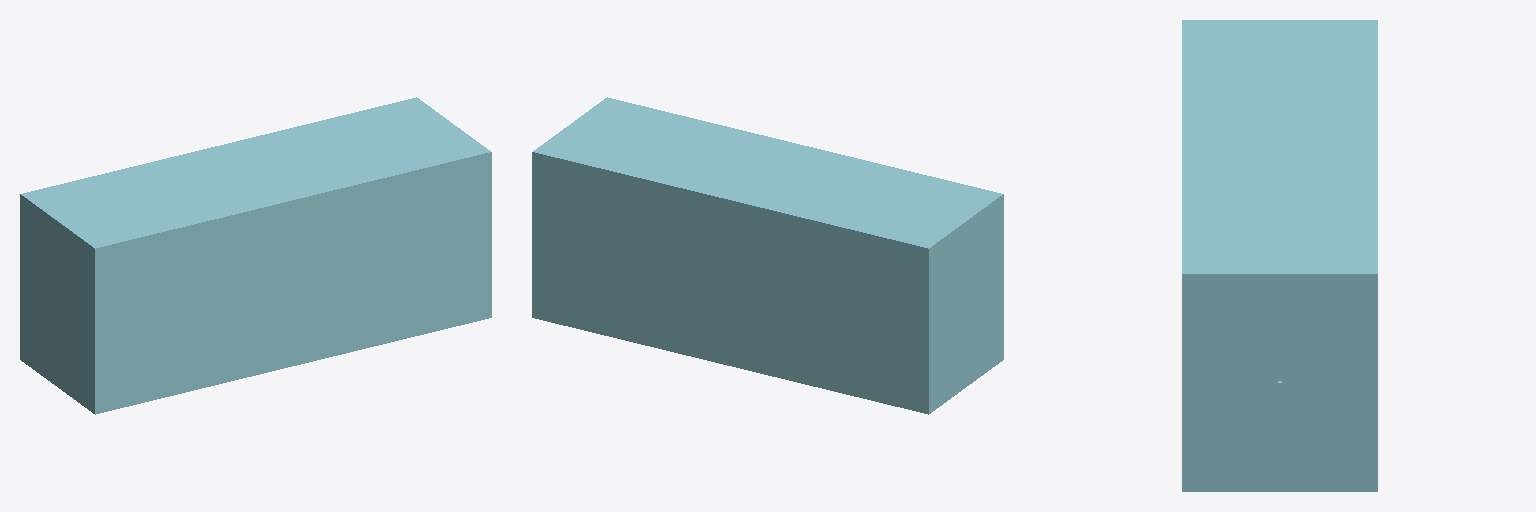
The robot description file, URDF, robot "cuboid_eraser_v7016":
<?xml version="1.0"?>
<robot name="cuboid_eraser_v7016">

  <link name="cuboid_eraser_v7016">
    <!-- Handle -->
    <visual>
      <origin xyz="0 0 0" rpy="0 0 0"/>
      <geometry>
        <box size="0.14272518515383587 0.046477102764253625 0.05711589747089883"/>
      </geometry>
      <material name="material">
        <color rgba="0.639 0.847 0.882 1.0"/>
      </material>
    </visual>
    <collision>
      <origin xyz="0 0 0" rpy="0 0 0"/>
      <geometry>
        <box size="0.14272518515383587 0.046477102764253625 0.05711589747089883"/>
      </geometry>
    </collision>

    <!-- Head -->
    <visual>
      <origin xyz="0.07186259257691793 0 0" rpy="0 0 0"/>
      <geometry>
        <box size="0.001 0.001 0.001"/>
      </geometry>
      <material name="material">
        <color rgba="0.639 0.847 0.882 1.0"/>
      </material>
    </visual>
    <collision>
      <origin xyz="0.07186259257691793 0 0" rpy="0 0 0"/>
      <geometry>
        <box size="0.001 0.001 0.001"/>
      </geometry>
    </collision>

    <inertial>
      <density value="400.0"/>
    </inertial>
  </link>

</robot>

--- What the picture shows (computed from the rendered views, not written in the file) ---
Views: 3 orthographic renders of the robot side by side, from view 1: azimuth 30°, elevation 25°; view 2: azimuth 150°, elevation 25°; view 3: azimuth 270°, elevation 25°.
Robot: cuboid_eraser_v7016 — 1 links, 0 joints (none); root link cuboid_eraser_v7016; default pose: all joints at 0.
Visible links, largest first — view 1: cuboid_eraser_v7016; view 2: cuboid_eraser_v7016; view 3: cuboid_eraser_v7016.
Link boxes in pixels (bbox=[...]): cuboid_eraser_v7016: bbox=[20, 97, 491, 414]; cuboid_eraser_v7016: bbox=[532, 97, 1003, 414]; cuboid_eraser_v7016: bbox=[1182, 20, 1377, 491].
Size in the robot's own frame: 0.1437 by 0.0465 by 0.0571 metres.
Geometry: primitives only (box / cylinder / sphere), no mesh files.
